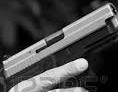gun: (1, 1, 118, 92)
